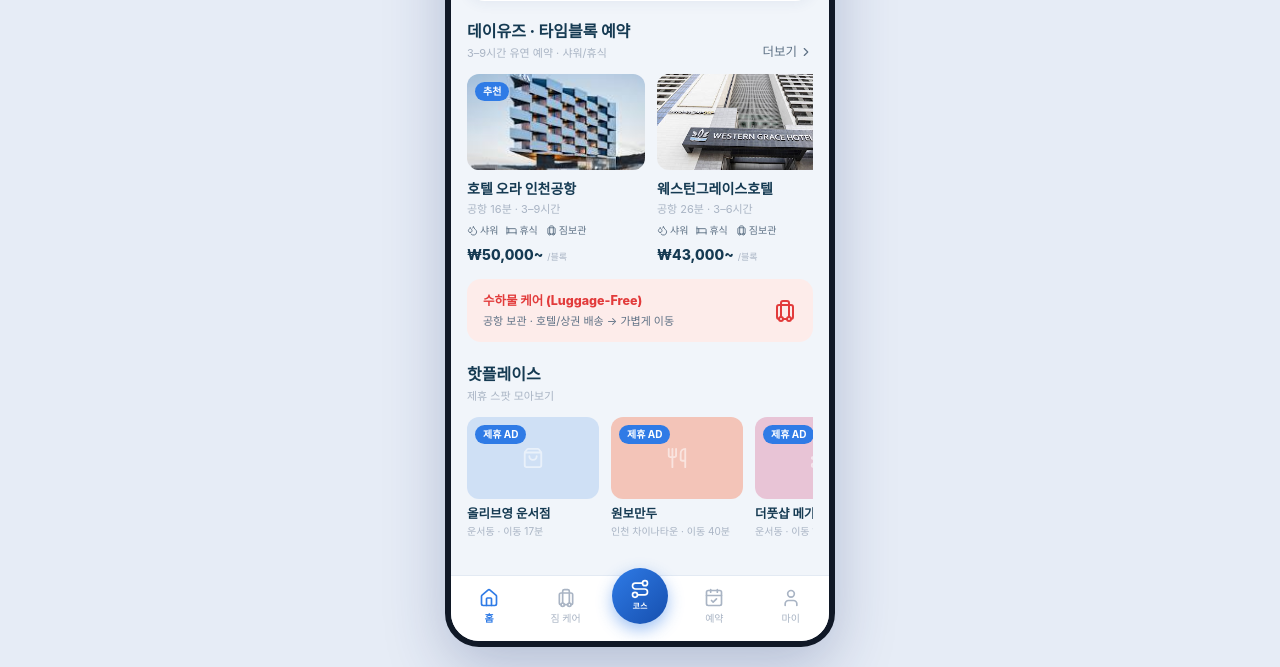
it: 홈 — 데이유즈·핫플레이스·짐 케어 › 핫플레이스 6개, 원보만두 → 시트(이동 40분·체류 45분·₩12,000~)
This screenshot has width=1280, height=667.
(page scrolled)
What coordinates should you click on to do the following:
click the button "제휴 AD 원보만두 인천 차이나타운 · 이동 40분"
I would click on:
 (677, 478)
Its box is x1=611 y1=417 x2=743 y2=539.
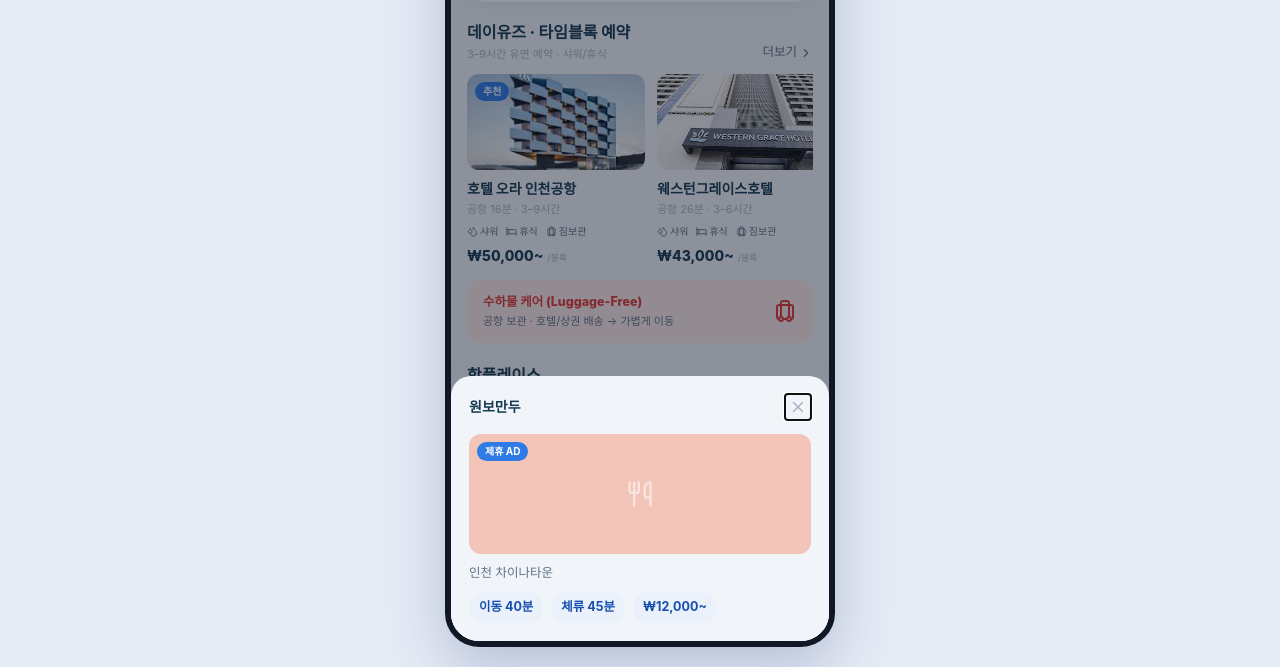
Expected: the dialog "원보만두" shows "이동 40분", x1=479 y1=599 x2=533 y2=614
Expected: the dialog "원보만두" shows "체류 45분", x1=561 y1=599 x2=615 y2=614
Expected: the dialog "원보만두" shows "₩12,000~", x1=451 y1=376 x2=829 y2=641
